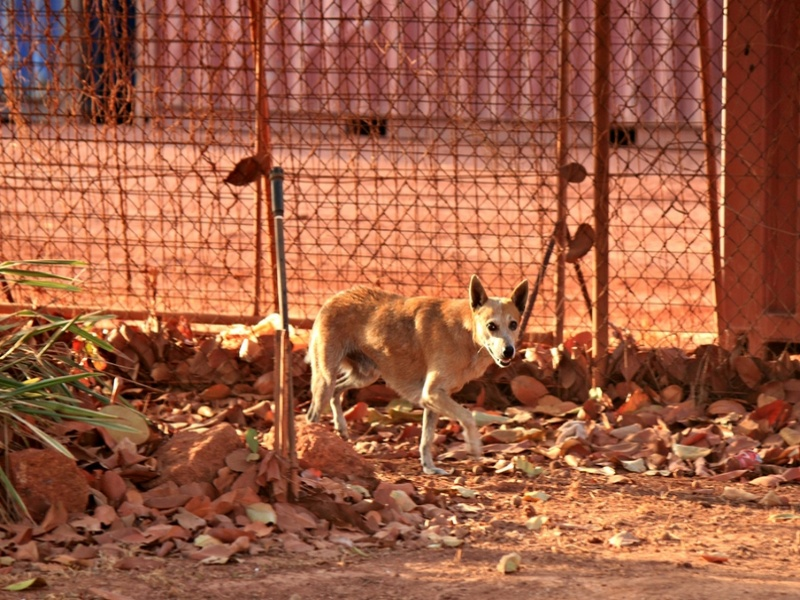dog: (303, 273, 533, 478)
